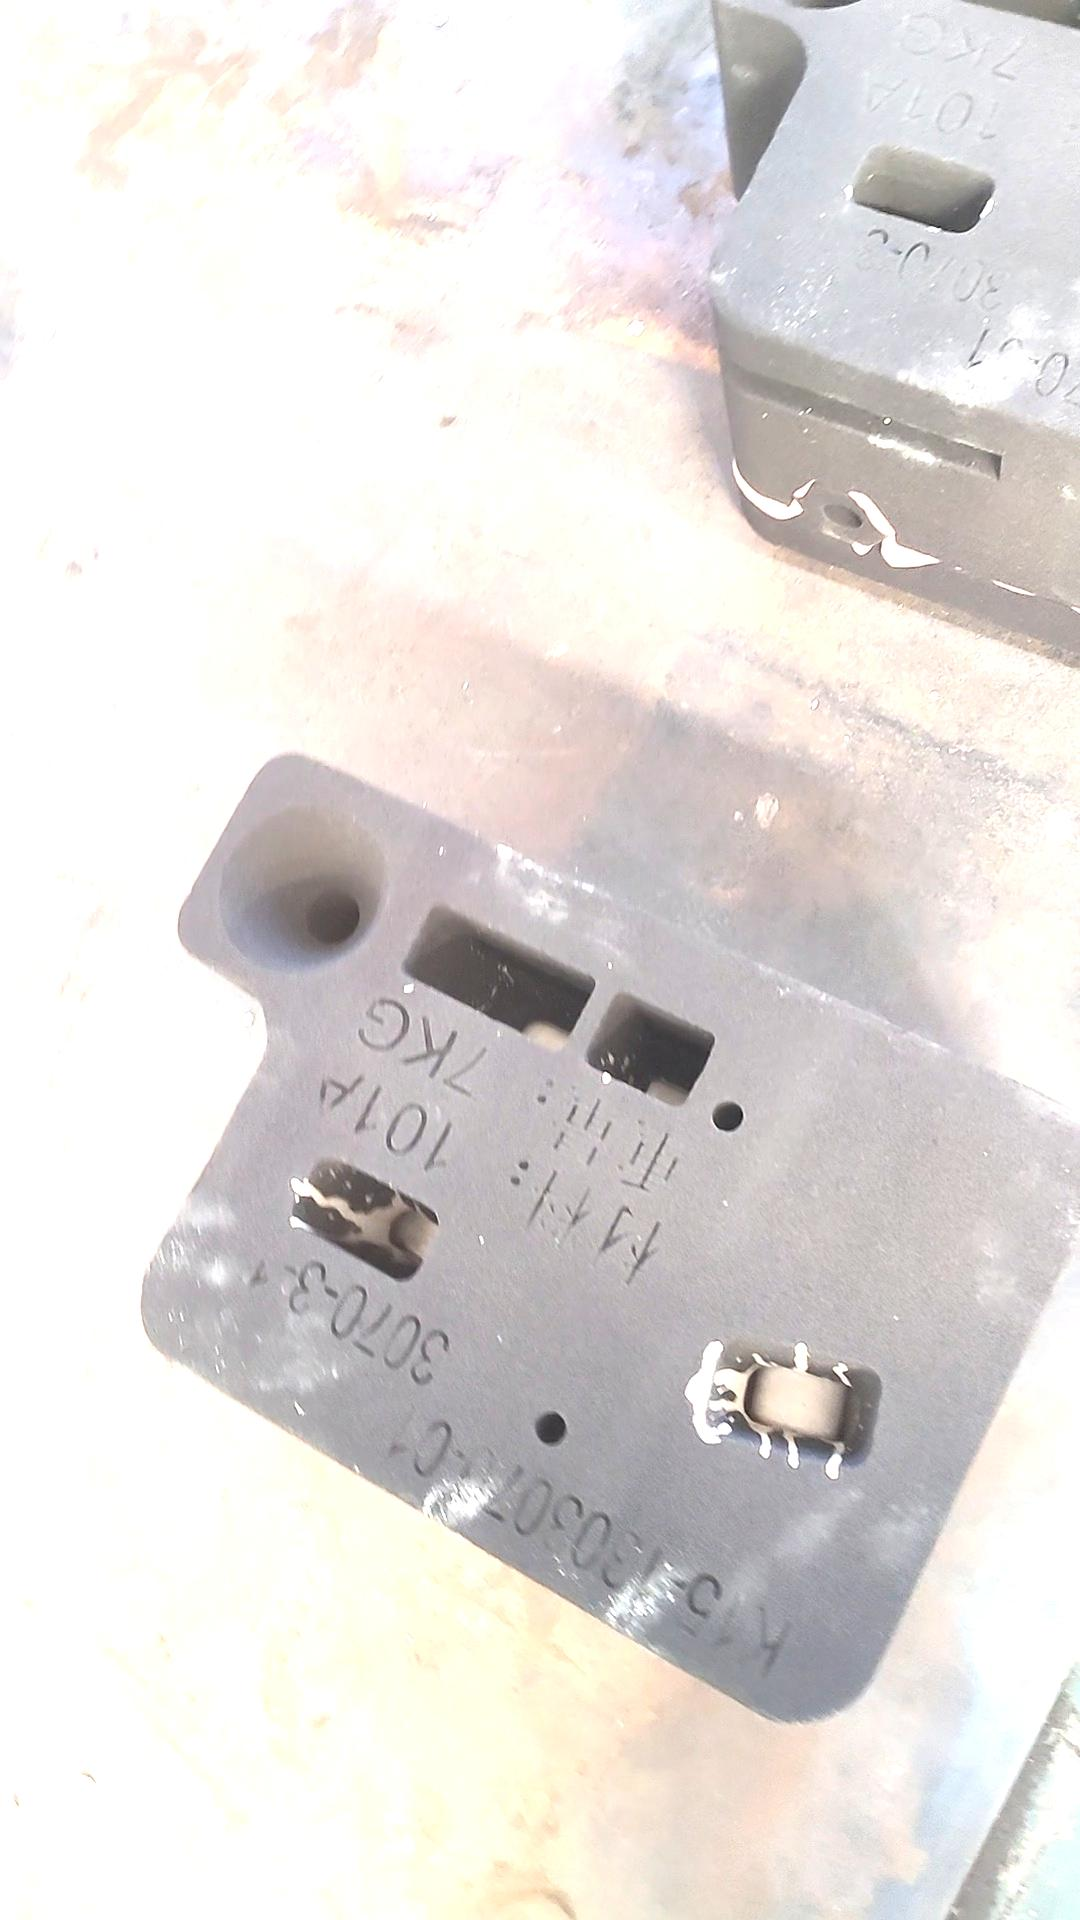pouring hole: (214, 808, 386, 975)
